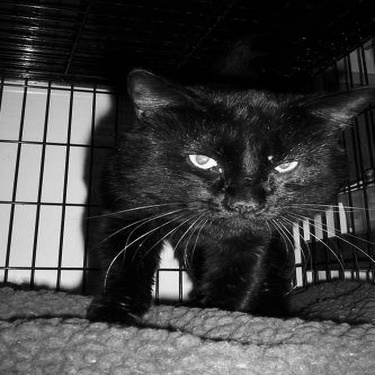cat: (71, 29, 344, 339)
